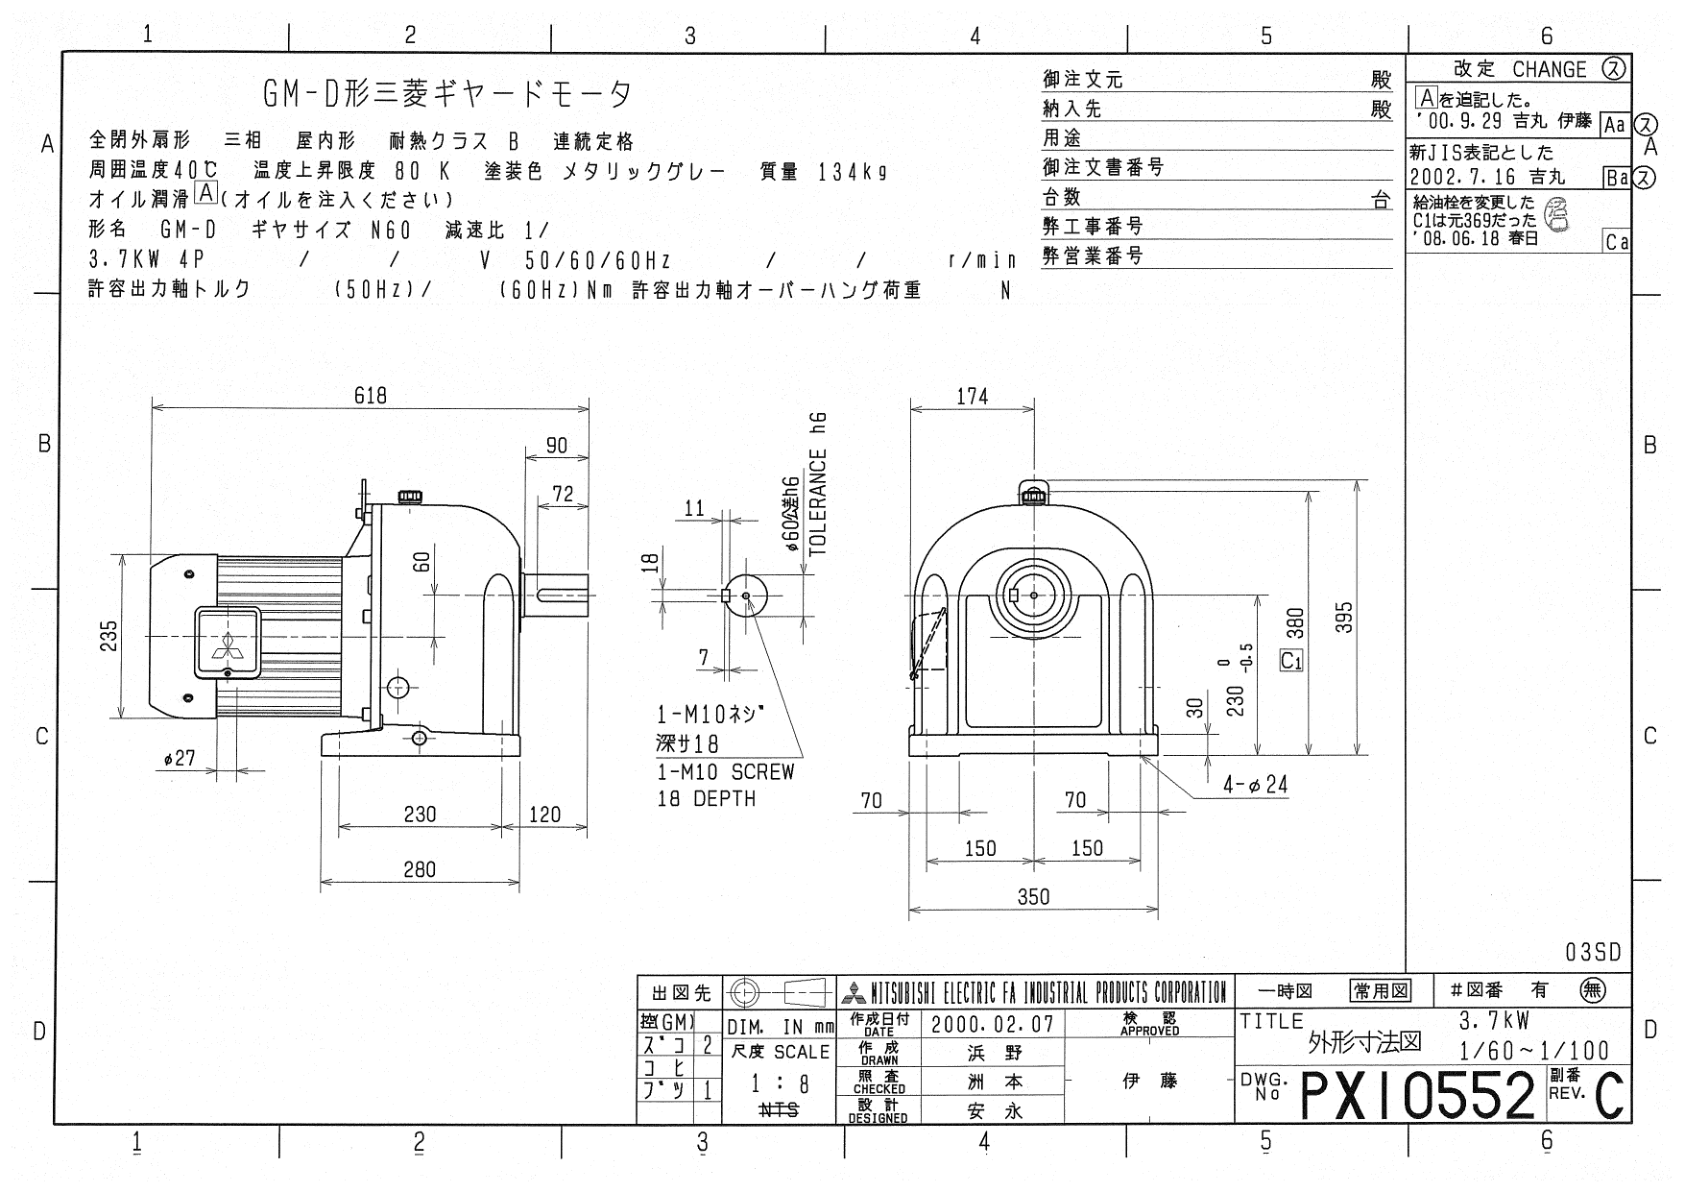GM_D_屋内＿三相_脚: (1, 1, 1679, 1184)
